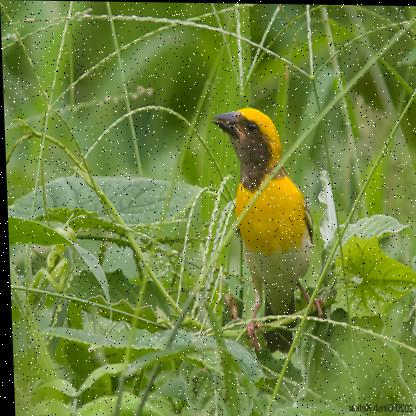Burung: (212, 106, 315, 361)
